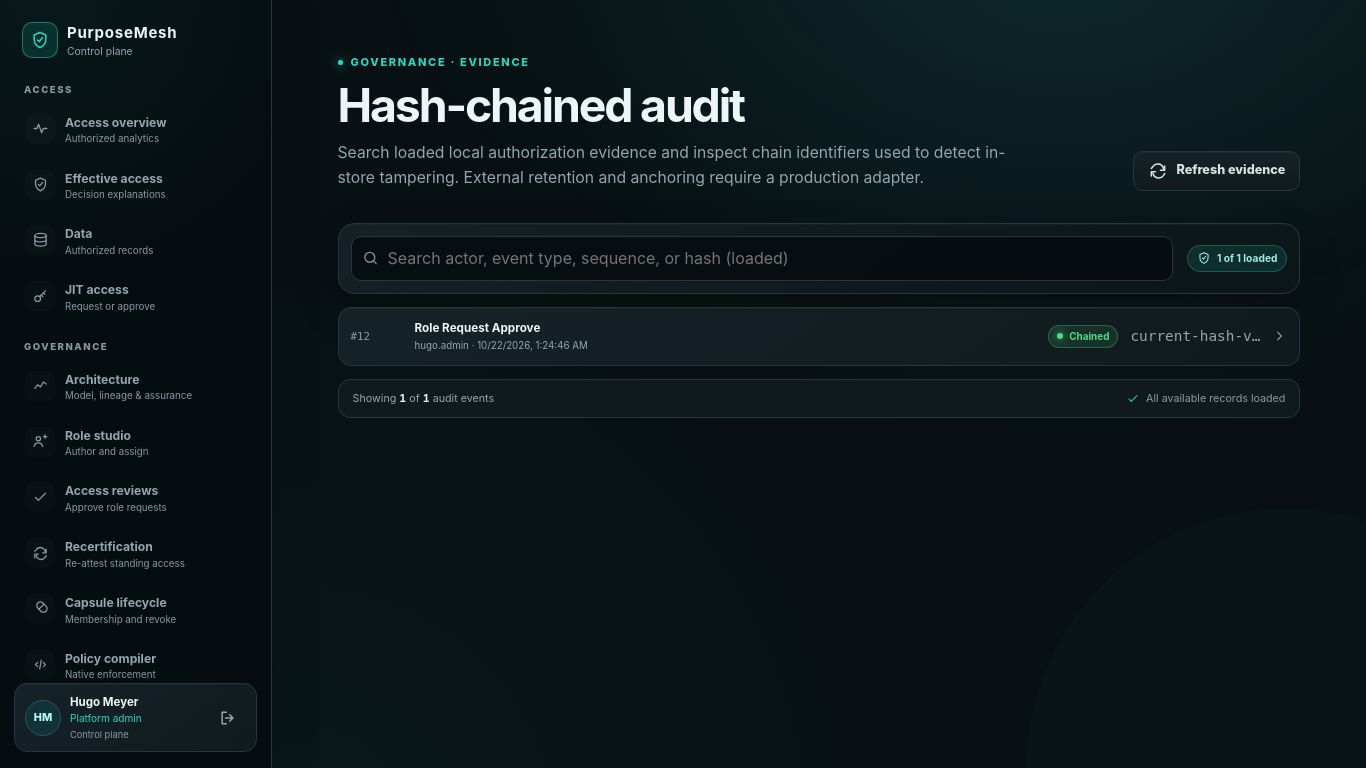
Test: authorization-aware navigation › renders the API audit detail object as inspectable evidence
Expected: the text "Role Request Approve" is shown, [415, 321, 540, 335]
Type "role-request-123" into the field with placeholder "Search actor, event type, sequence, or hash (loaded)" at (762, 258), box [351, 236, 1173, 281]
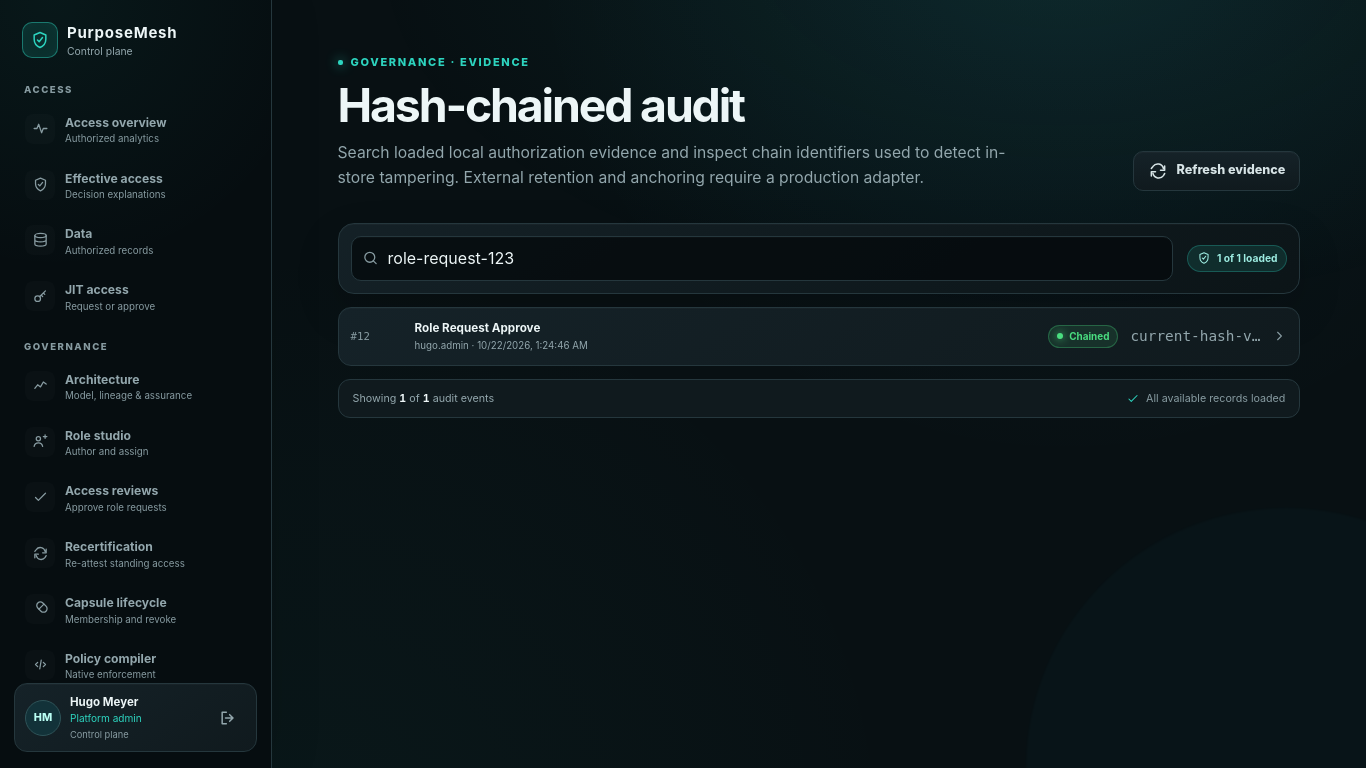
Expected: the text "Role Request Approve" is shown, [415, 321, 540, 335]
Replace the text in the field with placeholder "Search actor, event type, sequence, or hash (loaded)" with "missing-evidence-id" at (762, 258), box [351, 236, 1173, 281]
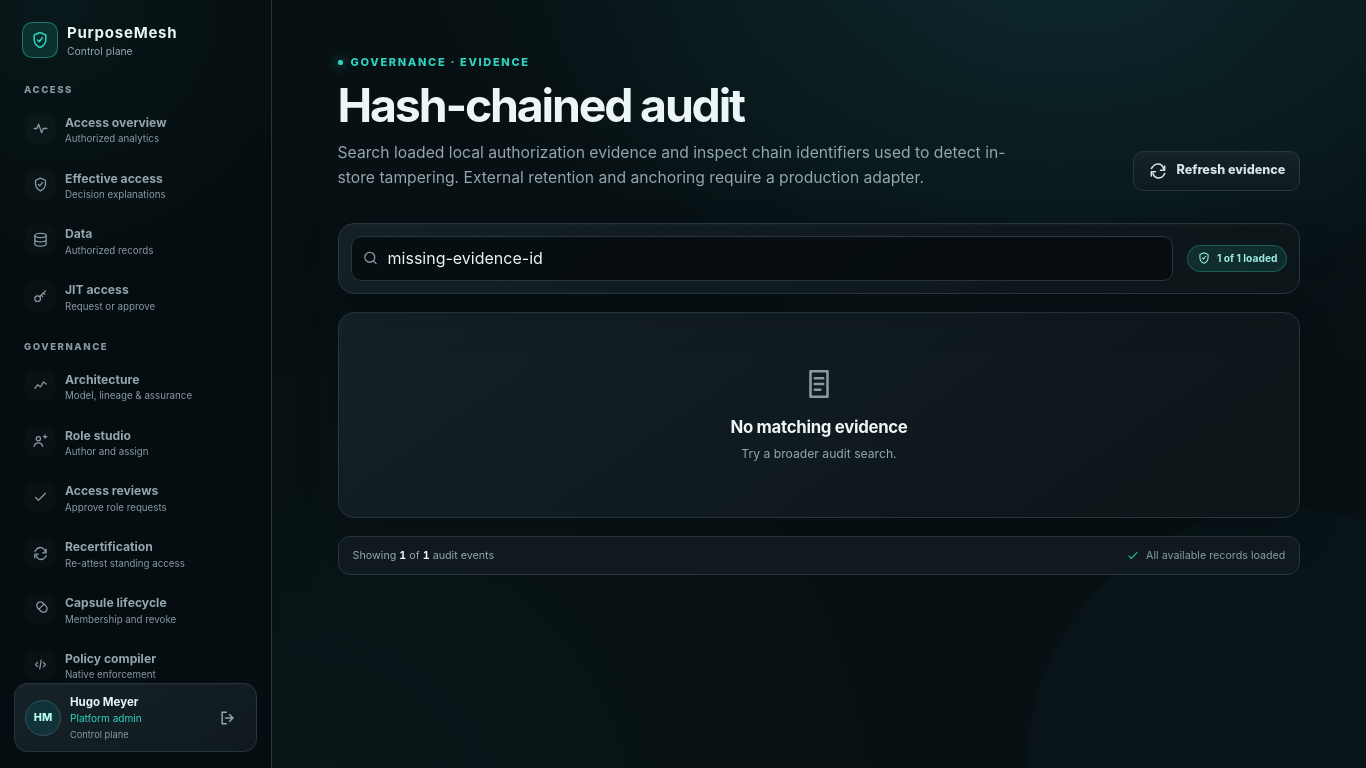
Expected: the heading "No matching evidence" is shown, [730, 415, 908, 439]
